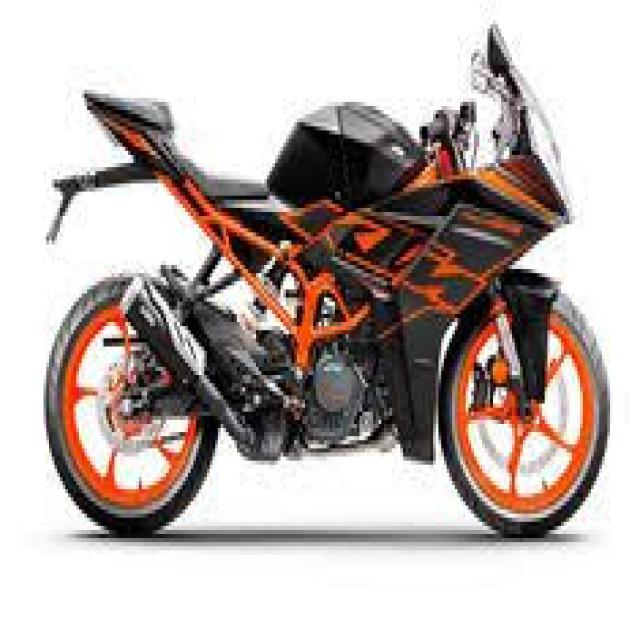Bike: (40, 39, 614, 559)
